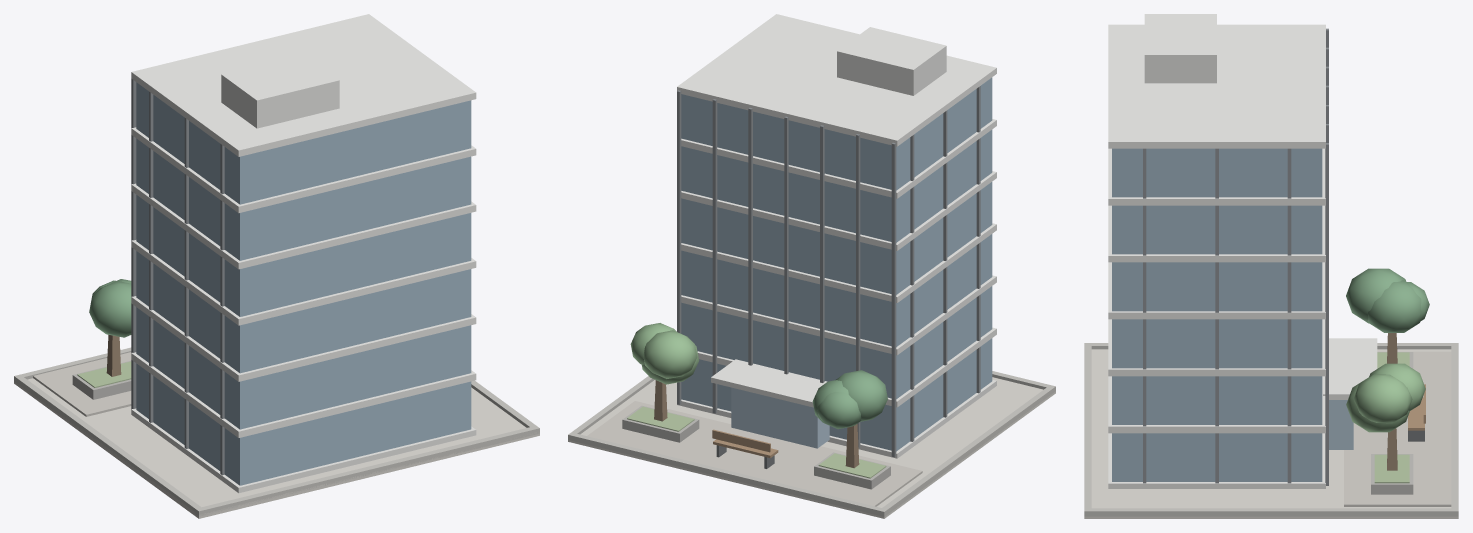
Rendered from mapa.oficina.fbx.
3 renders of one model, left to right at view 1: azimuth 30°, elevation 25°; view 2: azimuth 150°, elevation 25°; view 3: azimuth 270°, elevation 25°, orthographic. The views are drawn at different scales.
Visible parts, largest first — view 1: Muro cortina, Losa.006, Vereda, Sala de máquinas, Losa.001, Losa.005, Losa.002, Losa.003, Losa.004, Solera.001, Losa, Plazoleta (+9 smaller); view 2: Muro cortina, Losa.006, Plazoleta, Vereda, Sala de máquinas, Hall, Alero del hall, Solera, Losa.002, Losa.003, Losa.004, Losa.005 (+23 smaller); view 3: Muro cortina, Losa.006, Vereda, Plazoleta, Sala de máquinas, Solera.002, Alero del hall, Losa.002, Losa.003, Losa.004, Losa.005, Losa.001 (+16 smaller).
Part boxes in pixels (box(x1,y1,x2,y2)): Muro cortina: box(136, 82, 471, 485); Losa.006: box(131, 14, 476, 156); Vereda: box(14, 378, 539, 518); Sala de máquinas: box(221, 54, 339, 128); Losa.001: box(131, 352, 476, 437); Losa.005: box(131, 127, 476, 212); Losa.002: box(131, 296, 476, 381); Losa.003: box(131, 240, 476, 325); Losa.004: box(131, 183, 476, 269); Solera.001: box(195, 425, 539, 516); Losa: box(131, 408, 476, 493); Plazoleta: box(33, 352, 131, 416); Muro cortina: box(681, 77, 992, 451); Losa.006: box(677, 14, 996, 146); Plazoleta: box(587, 401, 922, 506); Vereda: box(568, 377, 1055, 518); Sala de máquinas: box(837, 27, 946, 95); Hall: box(731, 387, 829, 448); Alero del hall: box(711, 359, 827, 407); Solera: box(568, 433, 886, 516); Losa.002: box(681, 275, 996, 355); Losa.003: box(681, 223, 996, 302); Losa.004: box(681, 171, 996, 250); Losa.005: box(681, 119, 996, 198); Muro cortina: box(1112, 148, 1322, 481); Losa.006: box(1108, 24, 1325, 148); Vereda: box(1084, 349, 1458, 518); Plazoleta: box(1344, 351, 1451, 506); Sala de máquinas: box(1144, 14, 1216, 83); Solera.002: box(1084, 508, 1458, 516); Alero del hall: box(1323, 338, 1377, 399); Losa.002: box(1108, 319, 1325, 376); Losa.003: box(1108, 262, 1325, 319); Losa.004: box(1108, 205, 1325, 262); Losa.005: box(1108, 148, 1325, 205); Losa.001: box(1108, 376, 1325, 433).
Size of the model in its own units: 3.3 by 3.47 by 3.1.
